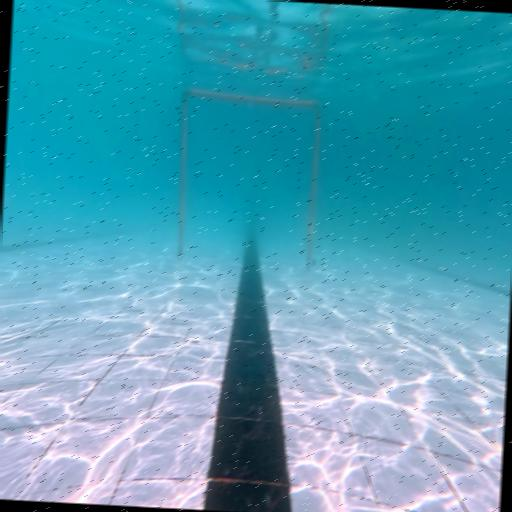gate: (173, 88, 323, 268)
